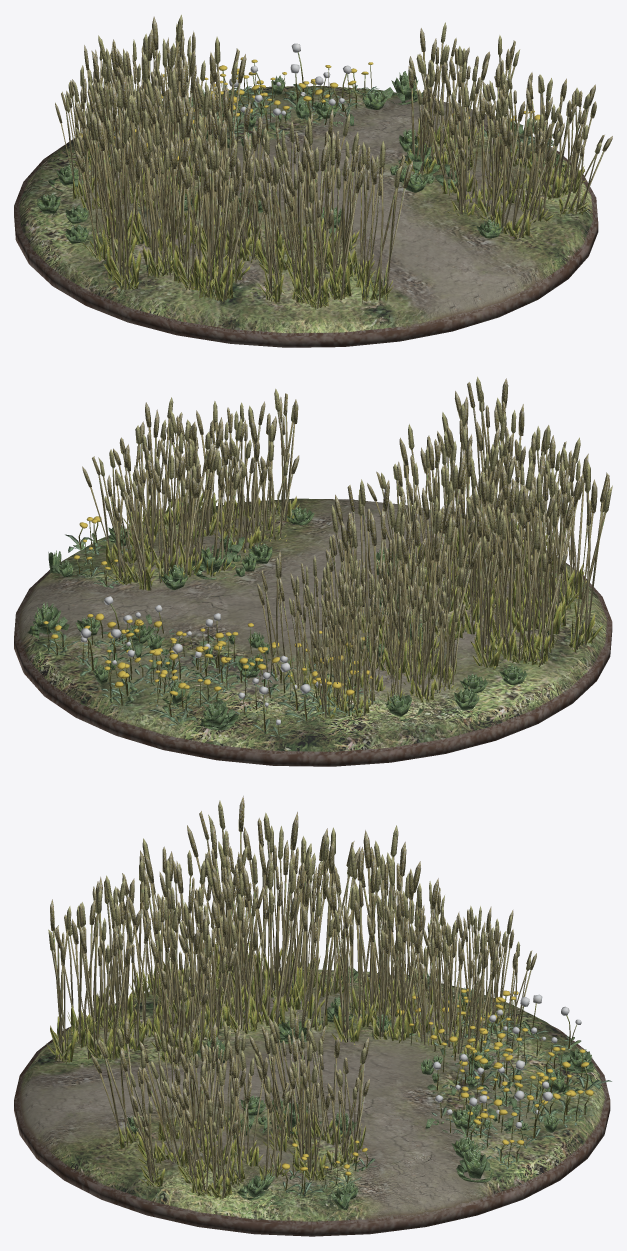
Rendered from countryside_path.glb.
3 renders of one model, top to bottom at view 1: azimuth 30°, elevation 25°; view 2: azimuth 150°, elevation 25°; view 3: azimuth 270°, elevation 25°, orthographic. The views are drawn at different scales.
Parts seen in each view (by area): view 1: harewheat_patch_3, ground_0, grass_tufts_4, dandi_flower_patch_1, dandi_seeding_patch_2; view 2: harewheat_patch_3, ground_0, grass_tufts_4, dandi_flower_patch_1, dandi_seeding_patch_2; view 3: harewheat_patch_3, ground_0, dandi_flower_patch_1, grass_tufts_4, dandi_seeding_patch_2.
Boxes of the visible parts, box(x1,y1,x2,y2) form: harewheat_patch_3: box(55, 14, 612, 309); ground_0: box(14, 86, 598, 347); grass_tufts_4: box(37, 71, 564, 243); dandi_flower_patch_1: box(75, 57, 558, 174); dandi_seeding_patch_2: box(86, 43, 357, 144); harewheat_patch_3: box(82, 376, 612, 719); ground_0: box(14, 498, 612, 766); grass_tufts_4: box(27, 506, 527, 730); dandi_flower_patch_1: box(42, 516, 376, 725); dandi_seeding_patch_2: box(72, 596, 322, 739); harewheat_patch_3: box(46, 795, 536, 1200); ground_0: box(14, 969, 610, 1236); dandi_flower_patch_1: box(277, 988, 611, 1196); grass_tufts_4: box(127, 966, 595, 1209); dandi_seeding_patch_2: box(430, 994, 581, 1148).
Bounding box in the file's own units: 4.37 × 1.65 × 4.39.
2 materials, 2 textured.
